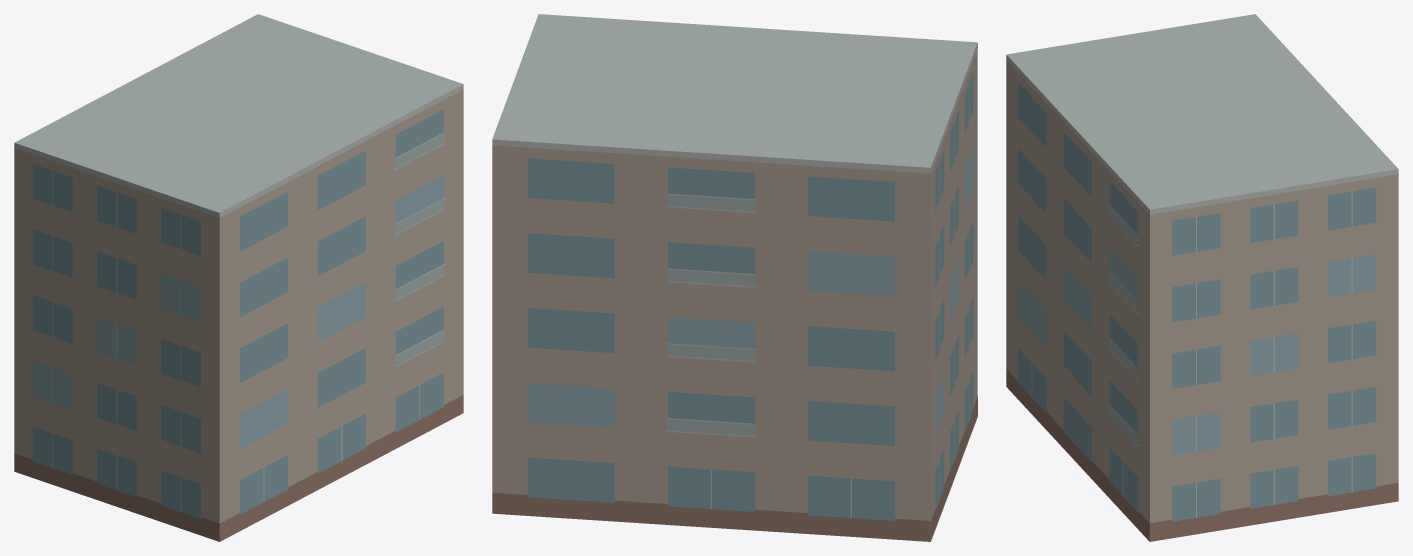
Rendered from survey-upis-32737505.glb.
3 renders of one model, left to right at view 1: azimuth 30°, elevation 25°; view 2: azimuth 150°, elevation 25°; view 3: azimuth 270°, elevation 25°, orthographic. The views are drawn at different scales.
Visible parts, largest first — view 1: survey-upis-32737505.tmp; view 2: survey-upis-32737505.tmp; view 3: survey-upis-32737505.tmp.
Boxes of the visible parts, x1,y1,x2,y2 form: survey-upis-32737505.tmp: (14, 14, 463, 541); survey-upis-32737505.tmp: (492, 14, 977, 541); survey-upis-32737505.tmp: (1006, 14, 1398, 541).
Size of the model in its own units: 19.53 by 15.45 by 16.55.
